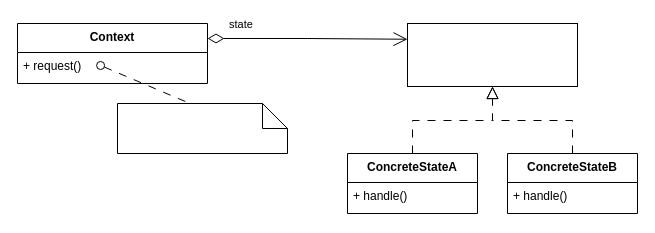
Image size: 655x233. Some labels were removed from this diagram. Each missing label, with the centre of its shape:
"<<Interface>> State + handle()" belongs at point (492, 54).
"this.state.handle()" belongs at point (202, 128).
